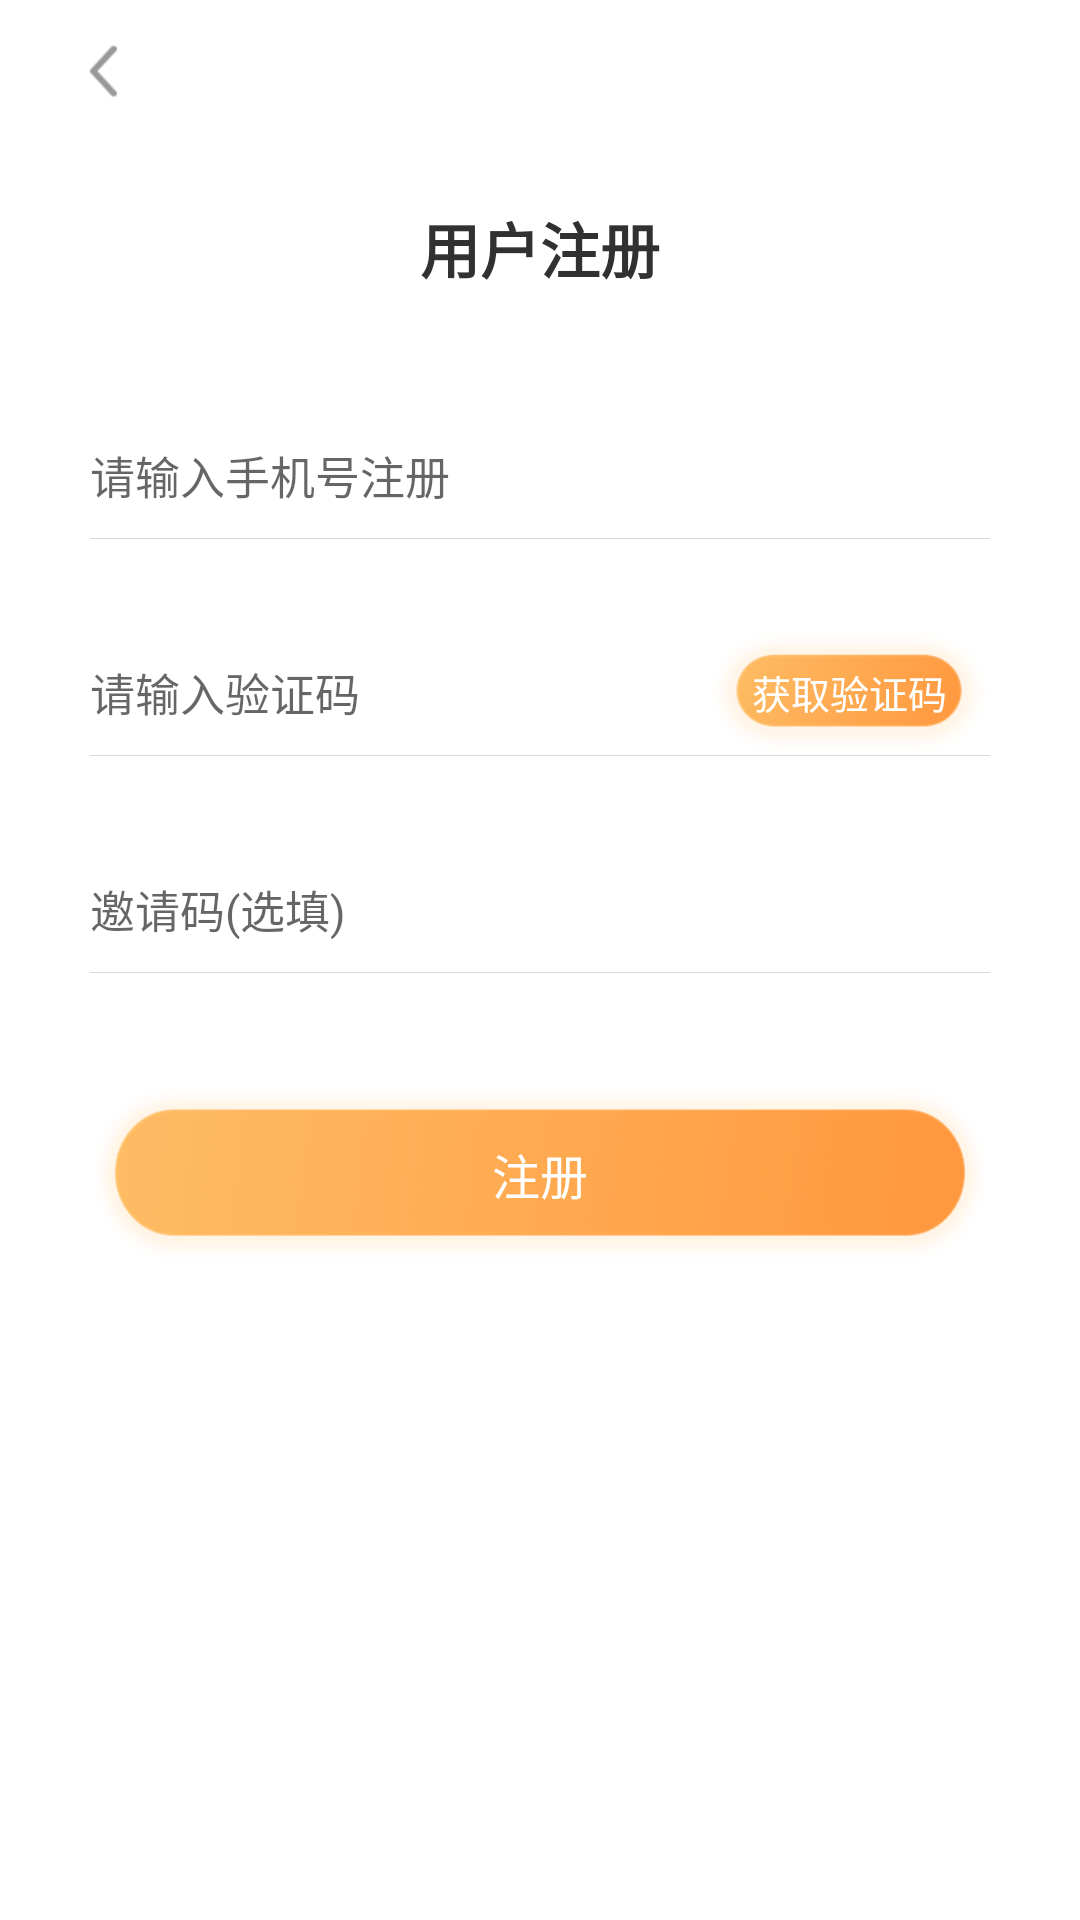

Icon bounding boxes for this 1080×1920 phone screenshot, format (left=x1, top=y1, right=x2, bottom=y2):
back: (left=90, top=45, right=117, bottom=97)
